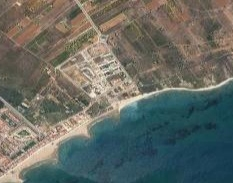motorway: (91, 30, 143, 80), (63, 1, 115, 50), (40, 96, 95, 134), (90, 78, 145, 116)
